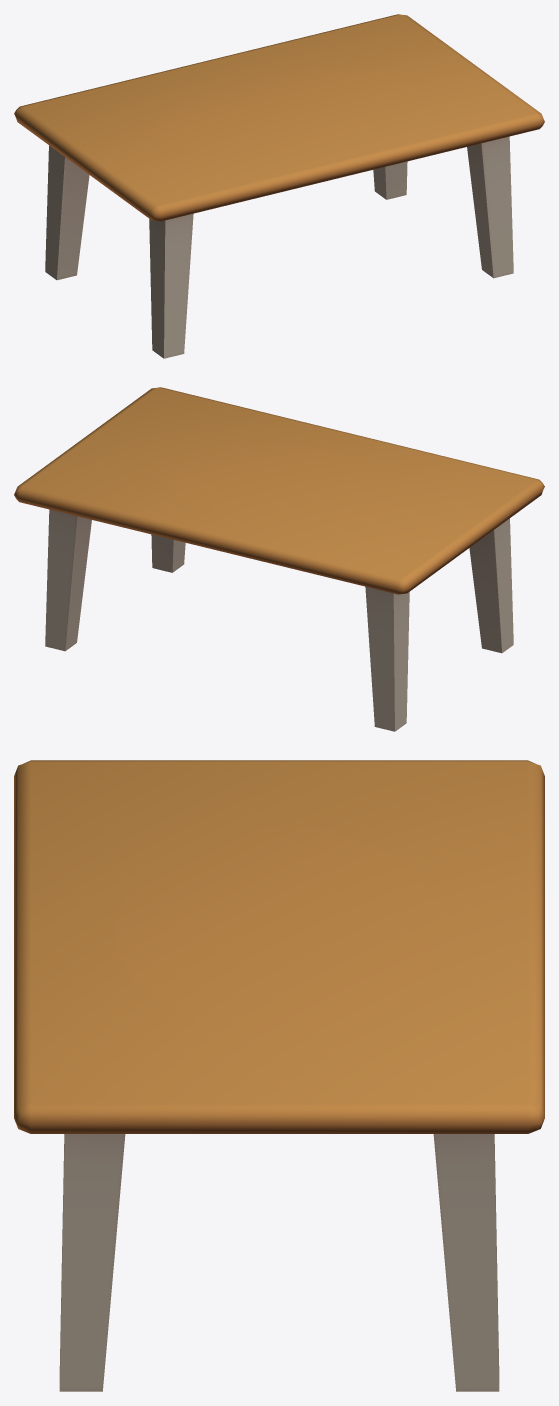
The model's file is table_01.fbx.
The picture shows the model from 3 angles, top to bottom: view 1: azimuth 30°, elevation 25°; view 2: azimuth 150°, elevation 25°; view 3: azimuth 270°, elevation 25°; orthographic projection. The views are drawn at different scales.
Parts seen in each view (by area): view 1: table_01_ready; view 2: table_01_ready; view 3: table_01_ready.
Boxes of the visible parts, x1=… form: table_01_ready: x1=14, y1=14, x2=544, y2=358; table_01_ready: x1=14, y1=387, x2=544, y2=731; table_01_ready: x1=14, y1=760, x2=544, y2=1391.
Bounding box in the file's own units: 190 × 75 × 120.
